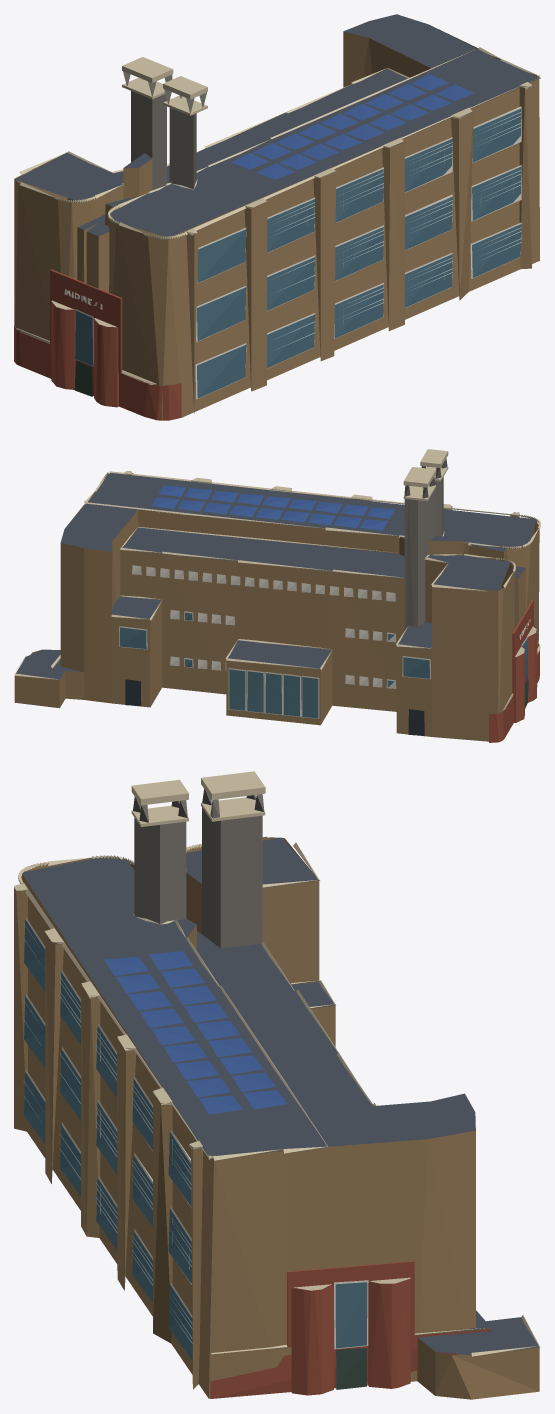
File: midwest.lod1.glb
3 renders of one model, top to bottom at view 1: azimuth 30°, elevation 25°; view 2: azimuth 150°, elevation 25°; view 3: azimuth 270°, elevation 25°, orthographic. The views are drawn at different scales.
Visible parts, largest first — view 1: midwest; view 2: midwest; view 3: midwest.
Part boxes in pixels (x1,y1,x2,y2): midwest: (14, 14, 540, 420); midwest: (14, 449, 540, 742); midwest: (14, 771, 540, 1399).
Size of the model in its own units: 42.92 by 22.9 by 29.61.
